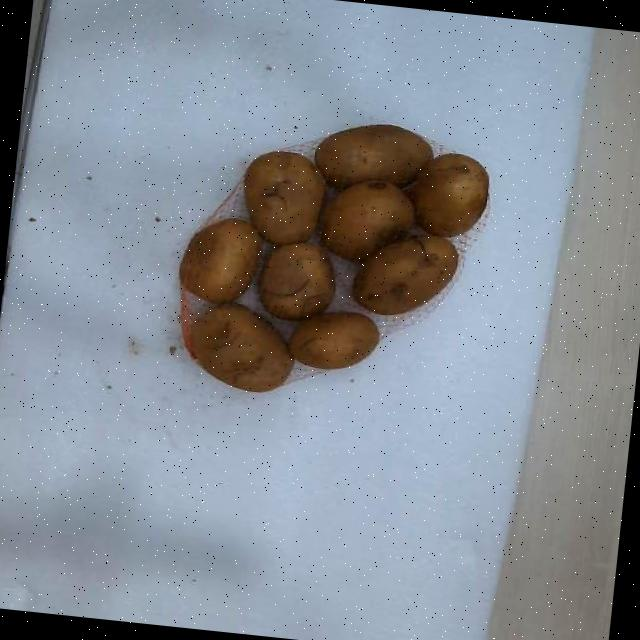potato: (189, 304, 292, 390), (352, 234, 457, 315), (243, 152, 324, 244), (321, 180, 414, 260), (314, 124, 432, 187), (178, 218, 261, 303), (408, 154, 488, 237), (258, 243, 334, 320), (288, 313, 378, 369)
